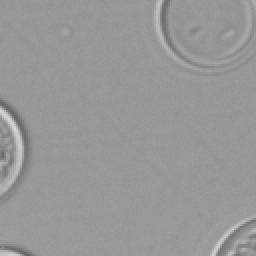picoshell: (154, 0, 254, 72), (0, 106, 22, 196), (210, 216, 254, 254), (0, 244, 32, 254)
